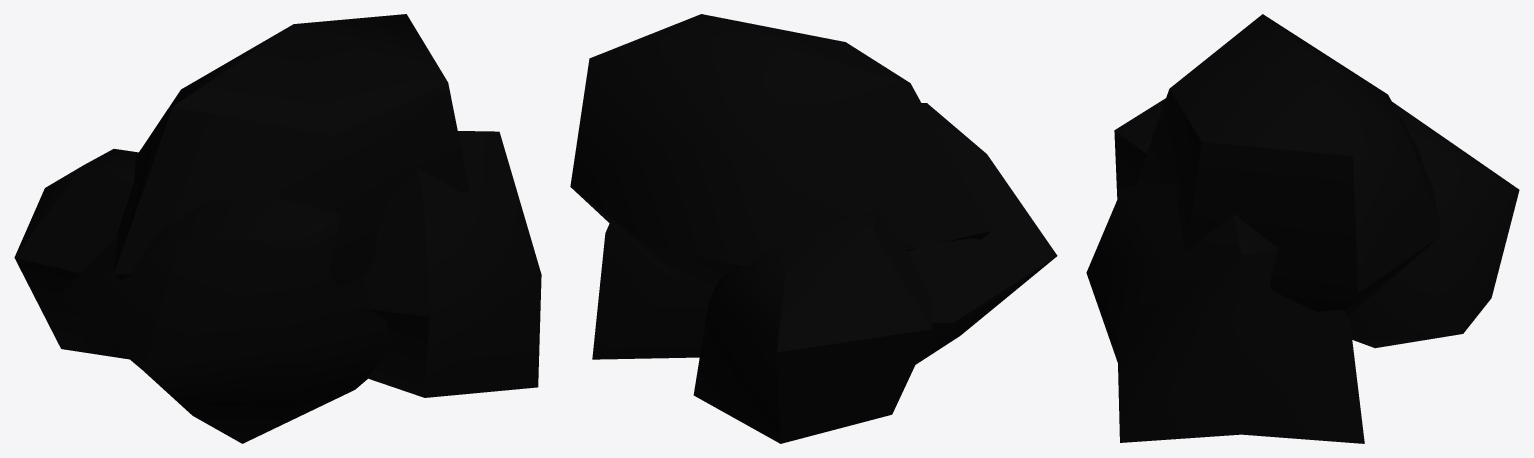
File: SM_bush_dry.fbx
3 views of the same model, side by side, from view 1: azimuth 30°, elevation 25°; view 2: azimuth 150°, elevation 25°; view 3: azimuth 270°, elevation 25° (orthographic). The views are drawn at different scales.
Parts seen in each view (by area): view 1: bush_dry; view 2: bush_dry; view 3: bush_dry.
Boxes of the visible parts, left/top/right/bottom form: bush_dry: left=14, top=14, right=541, bottom=443; bush_dry: left=570, top=14, right=1057, bottom=443; bush_dry: left=1086, top=14, right=1519, bottom=443.
Bounding box in the file's own units: 1.27 × 1.12 × 1.2.
